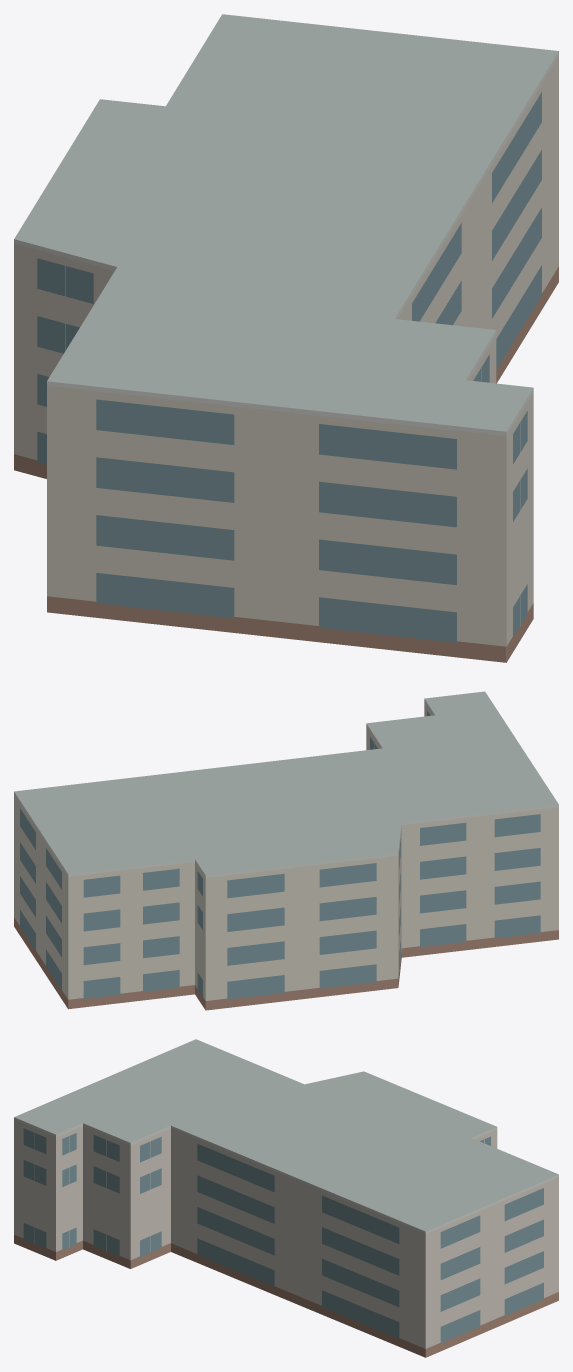
File: residential-9f4ec472-fba2-474b-b451-867614f08086.glb
3 views of the same model, one above another, from view 1: azimuth 30°, elevation 25°; view 2: azimuth 150°, elevation 25°; view 3: azimuth 270°, elevation 25° (orthographic). The views are drawn at different scales.
Parts seen in each view (by area): view 1: residential-9f4ec472-fba2-474b-b451-867614f08086.tmp; view 2: residential-9f4ec472-fba2-474b-b451-867614f08086.tmp; view 3: residential-9f4ec472-fba2-474b-b451-867614f08086.tmp.
Boxes of the visible parts, x1,y1,x2,y2 form: residential-9f4ec472-fba2-474b-b451-867614f08086.tmp: (14, 14, 558, 662); residential-9f4ec472-fba2-474b-b451-867614f08086.tmp: (14, 691, 558, 1010); residential-9f4ec472-fba2-474b-b451-867614f08086.tmp: (14, 1039, 558, 1357).
Bounding box in the file's own units: 39.91 × 12.2 × 47.74.
